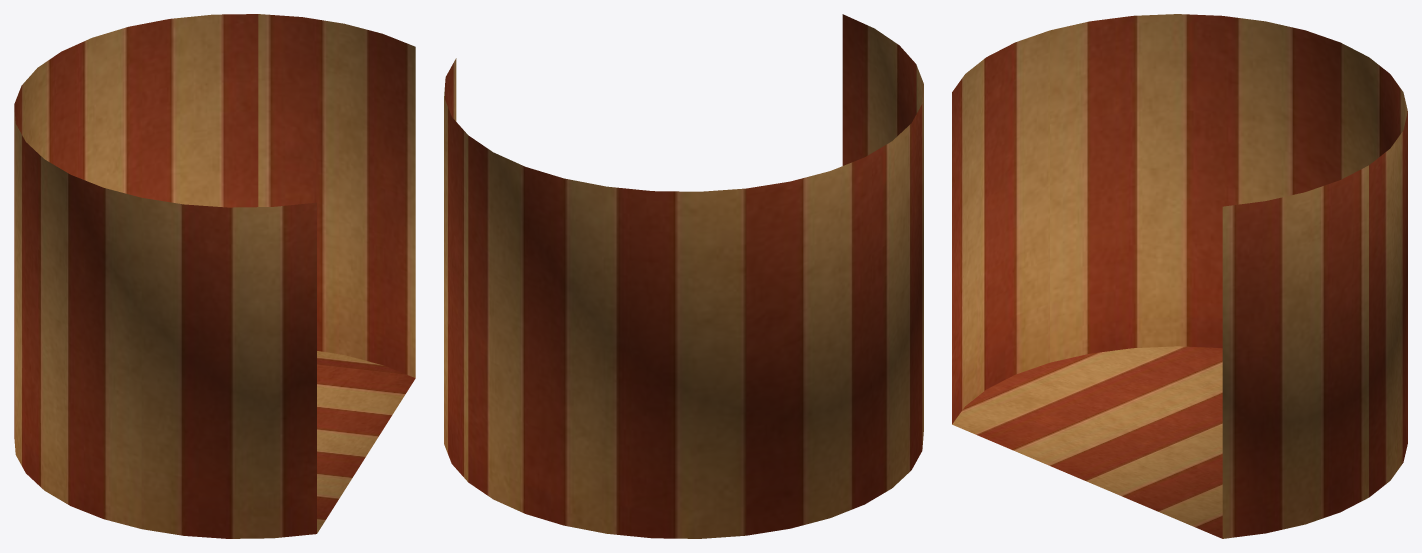
File: Cenario_Circo.fbx
3 renders of one model, left to right at view 1: azimuth 30°, elevation 25°; view 2: azimuth 150°, elevation 25°; view 3: azimuth 270°, elevation 25°, orthographic. The views are drawn at different scales.
Parts seen in each view (by area): view 1: Cylinder; view 2: Cylinder; view 3: Cylinder.
Boxes of the visible parts, bbox=[...] form: Cylinder: bbox=[14, 14, 415, 538]; Cylinder: bbox=[444, 14, 923, 538]; Cylinder: bbox=[952, 14, 1407, 538].
Bounding box in the file's own units: 18954 × 15247 × 18954.
Materials: 1 (1 with a texture image).
